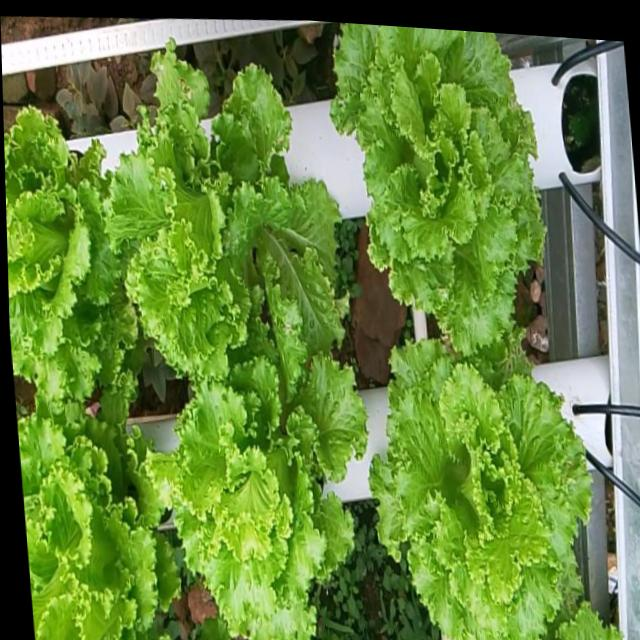Mature: (110, 36, 343, 386), (332, 25, 547, 363), (370, 343, 607, 640), (148, 360, 369, 640), (18, 389, 179, 640), (4, 113, 137, 407)
